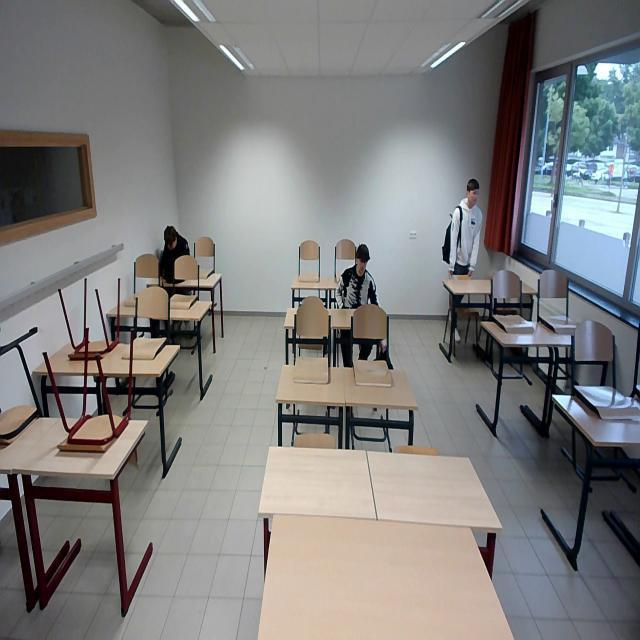Looking away: (350, 237, 373, 273), (463, 171, 487, 203)
Phone use: (158, 220, 192, 279)
